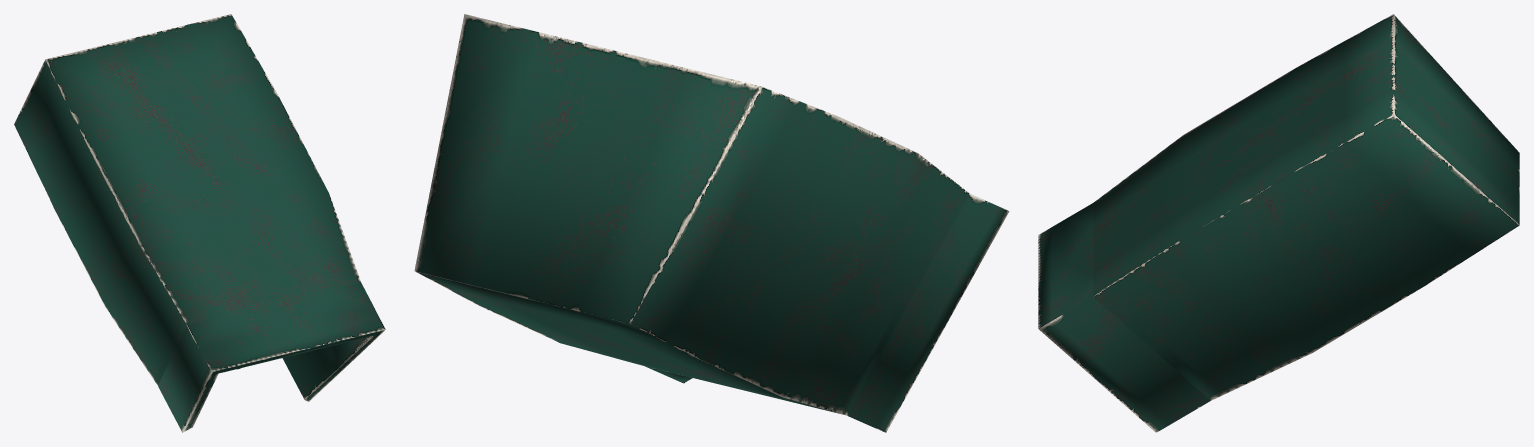
The model's file is camera_recorder.gltf.
3 views of the same model, side by side, from view 1: azimuth 30°, elevation 25°; view 2: azimuth 150°, elevation 25°; view 3: azimuth 270°, elevation 25° (orthographic). The views are drawn at different scales.
Parts seen in each view (by area): view 1: Plane.004; view 2: Plane.004; view 3: Plane.004.
Boxes of the visible parts, x1,y1,x2,y2 form: Plane.004: (14,14,385,432); Plane.004: (414,14,1009,432); Plane.004: (1038,14,1519,432).
Size of the model in its own units: 3.39 by 5.11 by 6.66.
Materials: 1 (1 with a texture image).
